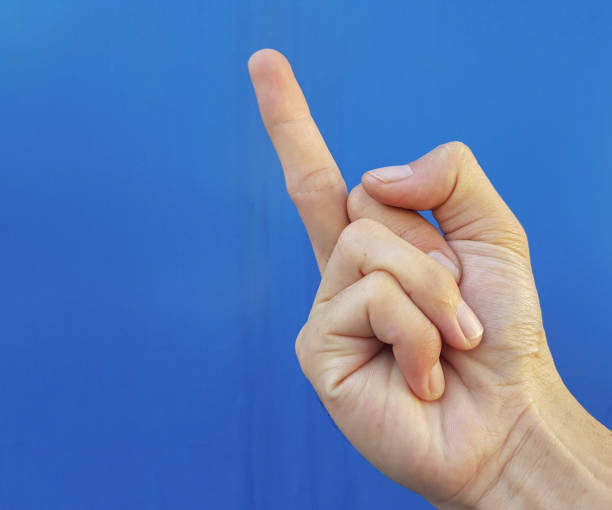insulting_gesture: (246, 43, 543, 510)
